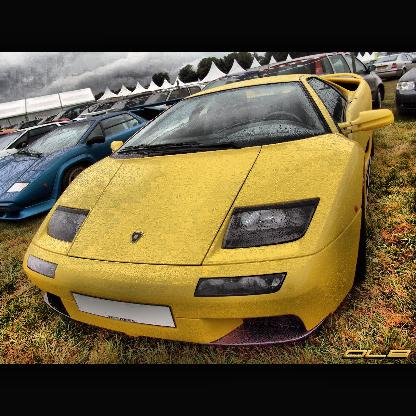Lamborghini Diablo Coupe 2001: (4, 57, 410, 355)
